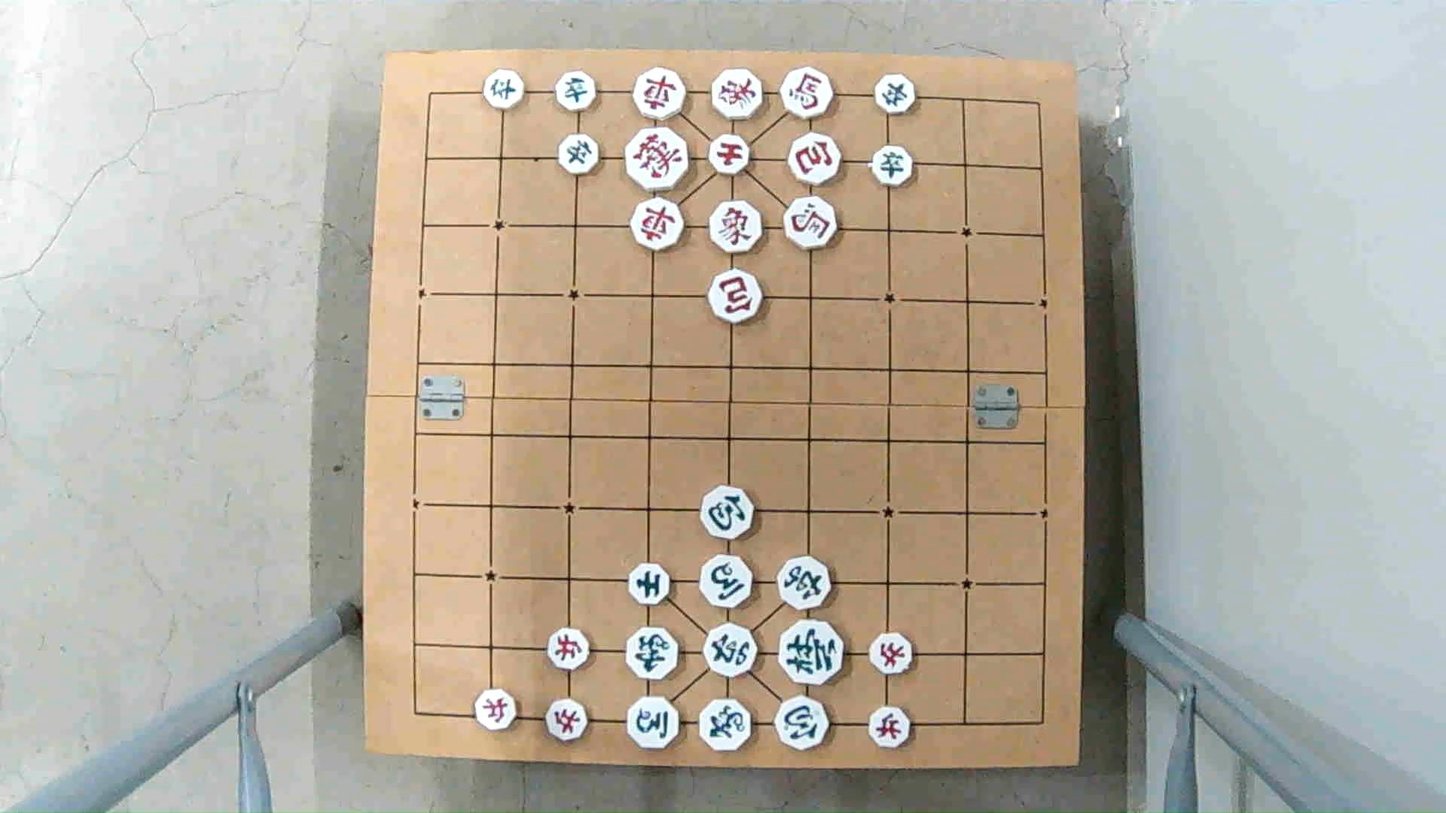cha_green: (703, 627, 760, 677), (776, 559, 831, 608)
cha_red: (632, 69, 688, 120), (630, 200, 685, 247)
jol_green: (872, 145, 917, 183), (557, 136, 600, 175), (875, 76, 918, 114), (556, 73, 599, 111), (484, 73, 525, 109)
jol_red: (545, 698, 590, 744), (868, 635, 915, 674), (868, 708, 913, 747), (548, 629, 593, 667), (476, 692, 520, 730)
ma_green: (626, 698, 683, 749), (699, 557, 754, 608)
ma_red: (779, 67, 836, 120), (786, 199, 843, 249)
po_green: (772, 699, 828, 748), (700, 488, 755, 537)
po_red: (708, 273, 764, 322), (791, 135, 844, 182)
sa_green: (627, 562, 673, 602)
sa_red: (707, 136, 752, 172)
sang_green: (698, 700, 755, 750), (624, 628, 679, 678)
sang_red: (708, 201, 764, 253), (709, 70, 764, 119)
wang_green: (781, 617, 846, 685)
wang_red: (624, 131, 689, 190)
